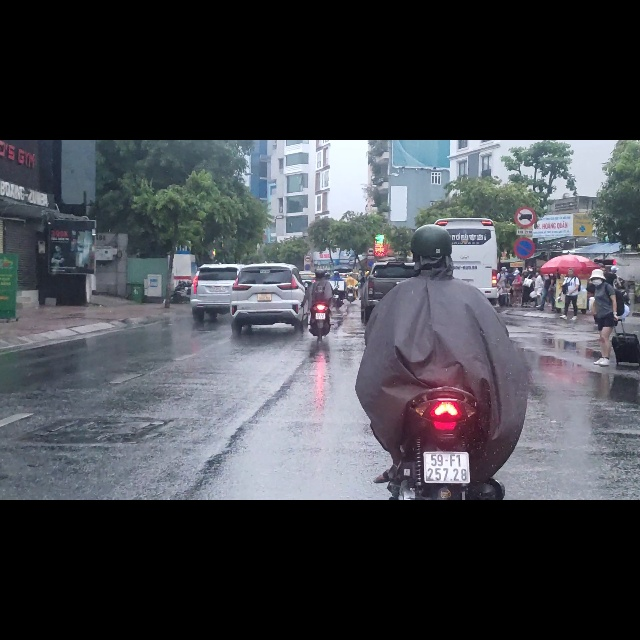bien_cam: (513, 169, 536, 212), (514, 118, 537, 156), (367, 191, 375, 205), (367, 213, 374, 226)
